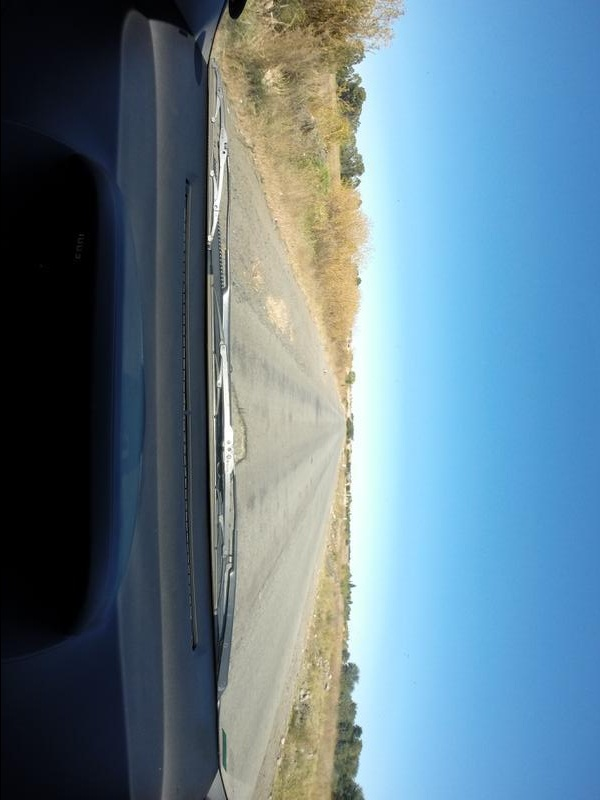pothole: (233, 373, 244, 475)
